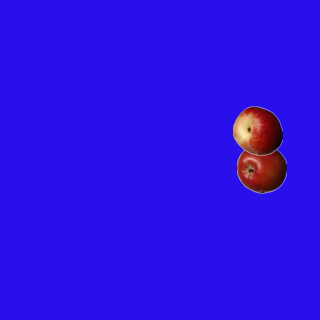Apple Braeburn: (236, 143, 286, 193)
Nectarine: (232, 105, 282, 155)
